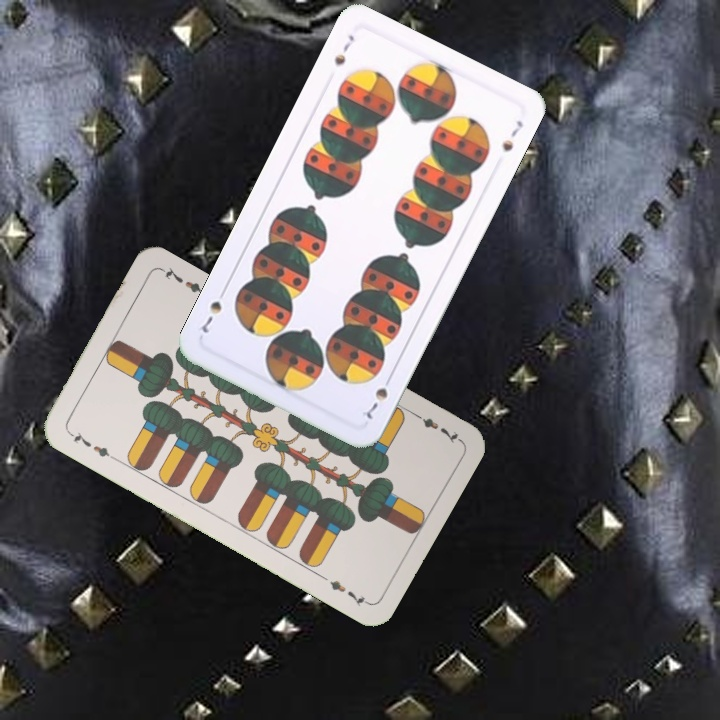E7: (409, 408, 463, 447), (64, 427, 118, 462)
S7: (362, 370, 396, 422), (330, 30, 357, 69)
